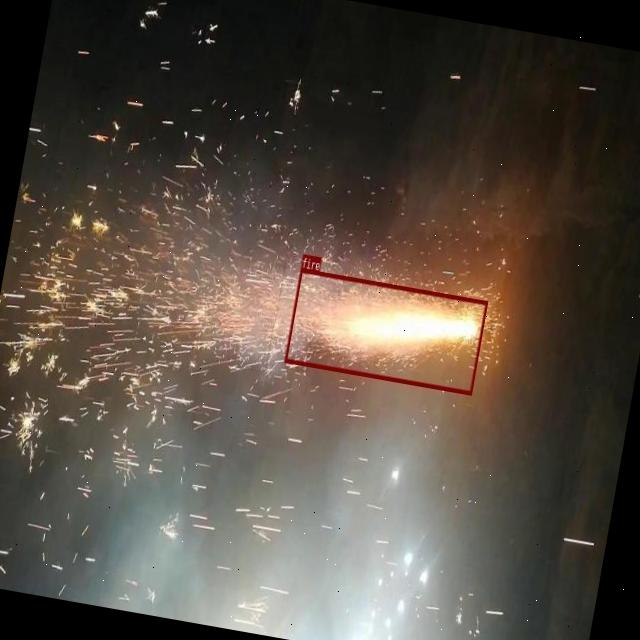fire: (283, 268, 487, 394)
